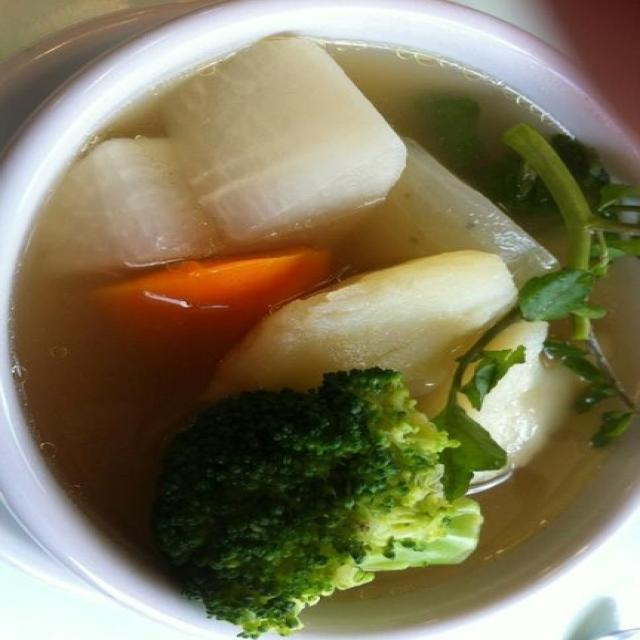汤锅炖物: (30, 23, 613, 616)
